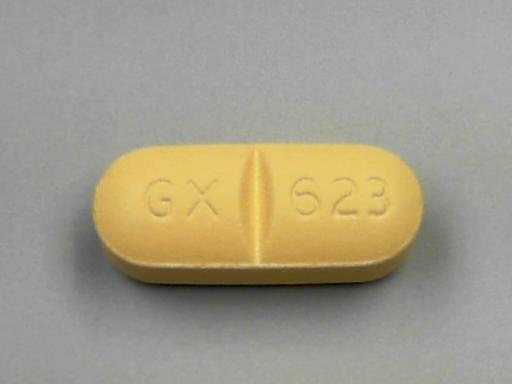Pill: (89, 141, 431, 291)
